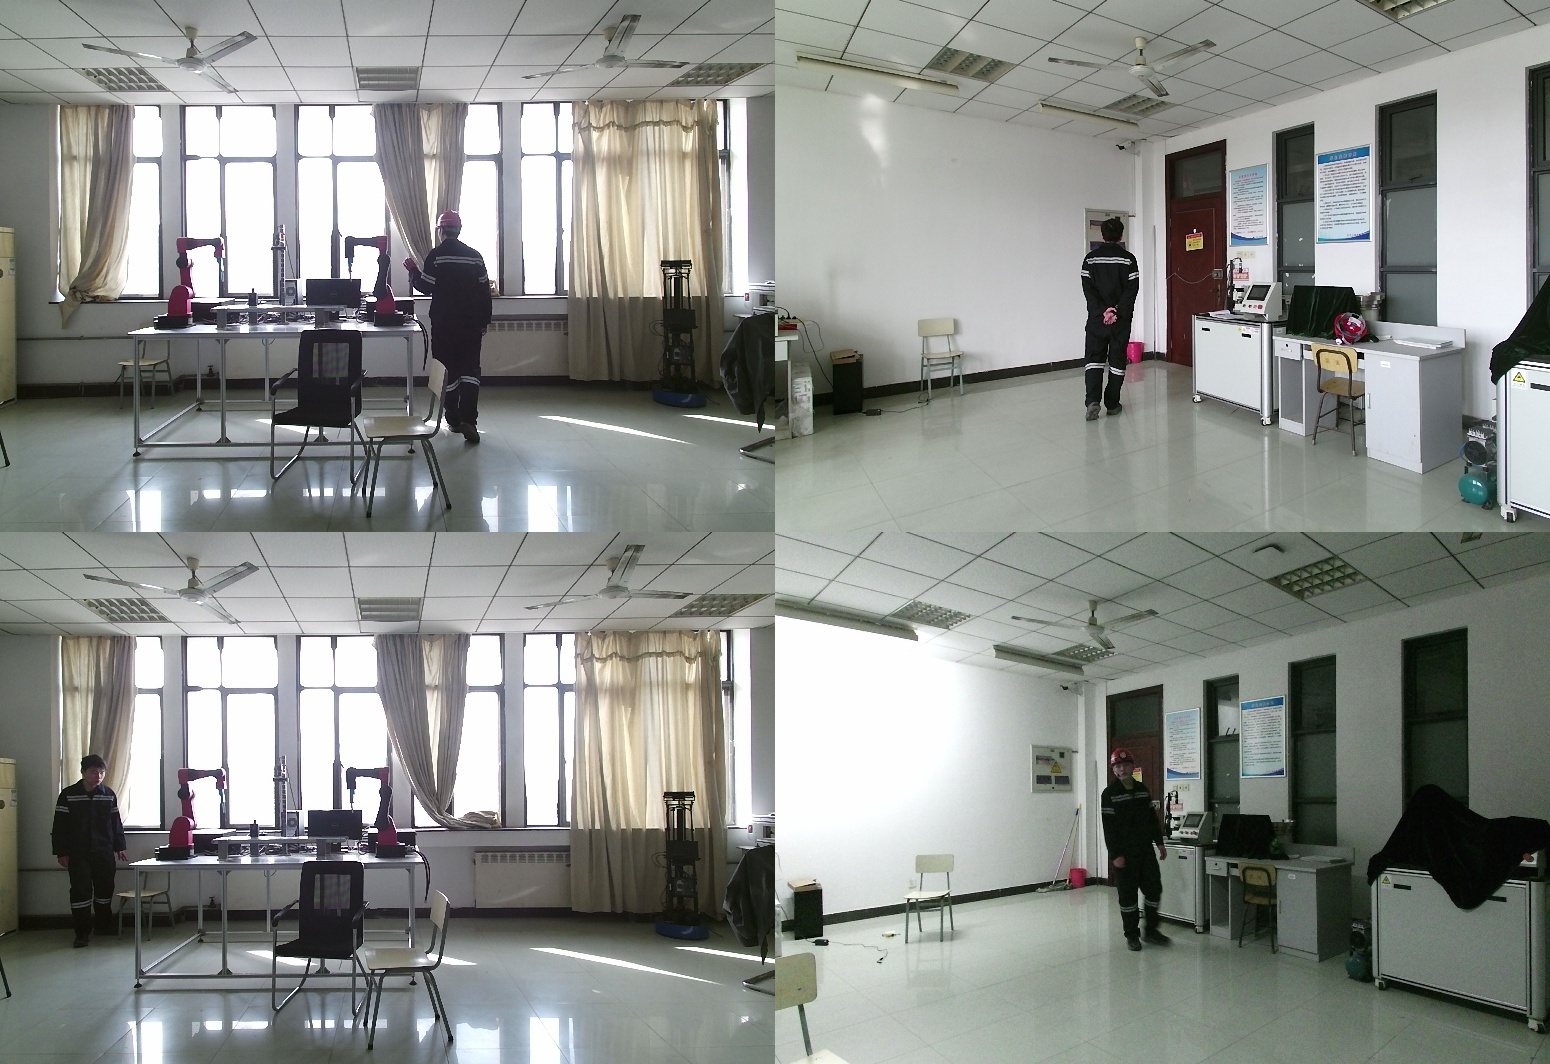person: (406, 211, 502, 448), (42, 756, 127, 947), (1074, 217, 1143, 426), (1100, 748, 1165, 958)
